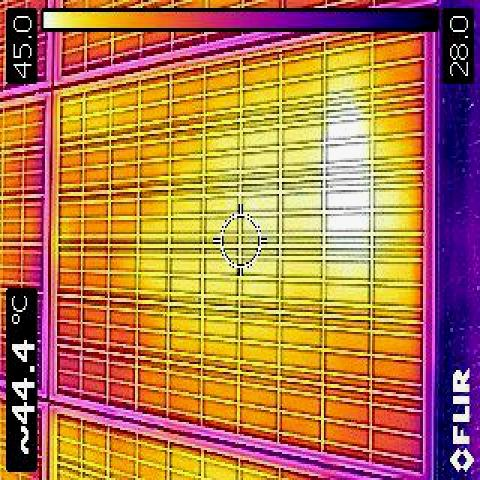fault: (323, 97, 372, 264)
